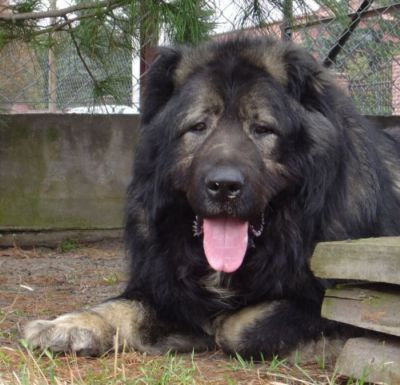cau_ovcharka: (19, 28, 399, 361)
